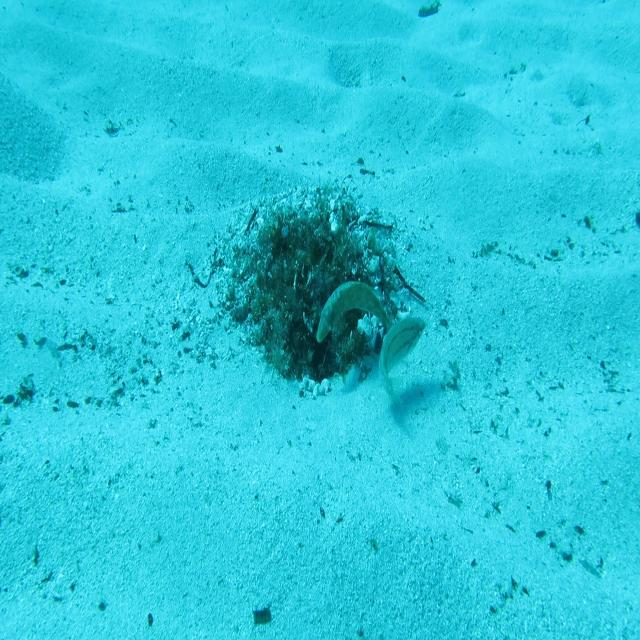BK_SW: (315, 278, 395, 344)
core_nest: (282, 227, 336, 265)
female: (378, 313, 427, 412)
nest: (212, 176, 414, 406)
vegetation: (419, 0, 441, 19)
